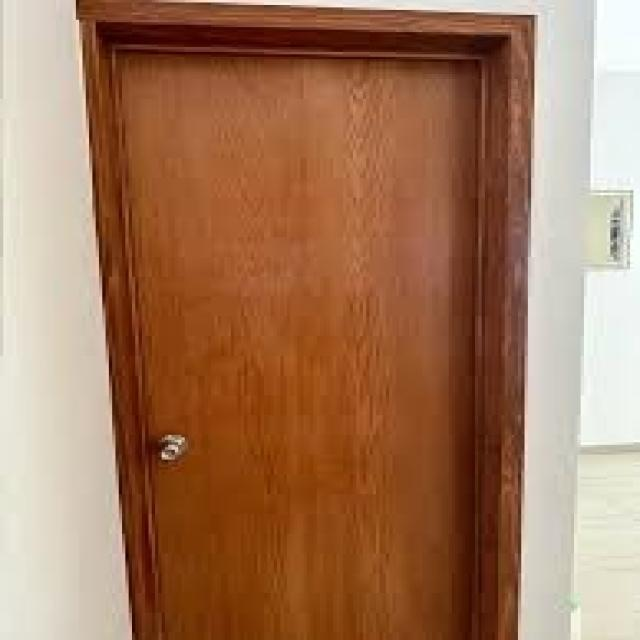door: (82, 6, 524, 639)
